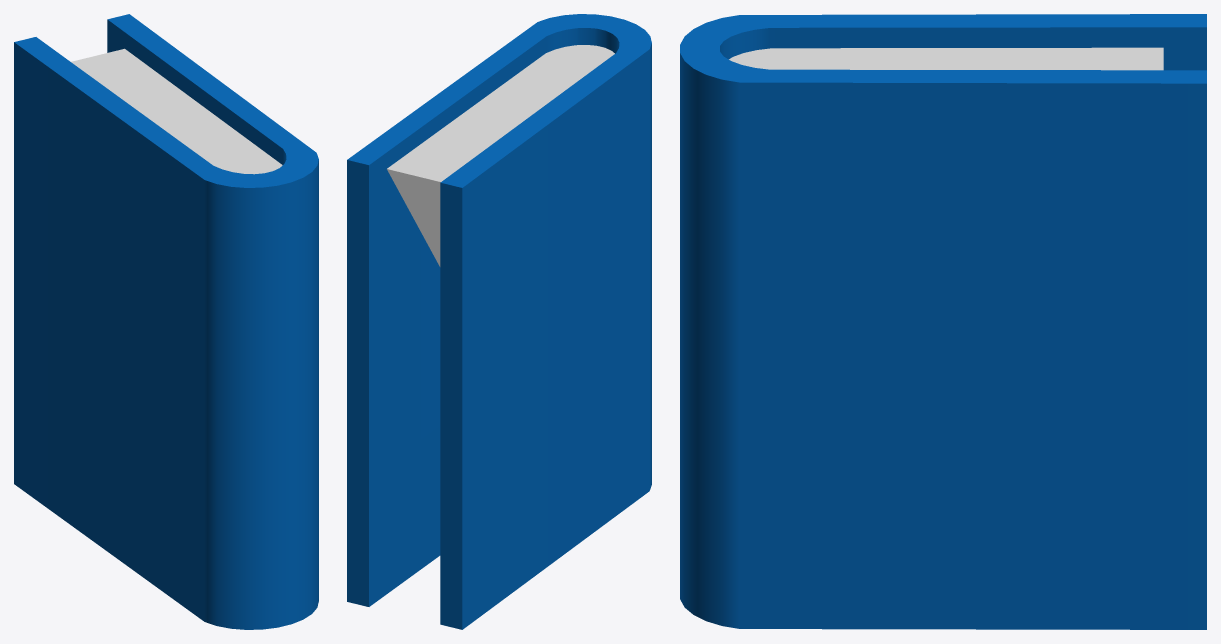
Rendered from book2.fbx.
3 renders of one model, left to right at view 1: azimuth 30°, elevation 25°; view 2: azimuth 150°, elevation 25°; view 3: azimuth 270°, elevation 25°, orthographic. The views are drawn at different scales.
Parts seen in each view (by area): view 1: polySurface2; view 2: polySurface2; view 3: polySurface2.
Boxes of the visible parts, x1=… form: polySurface2: x1=14, y1=14, x2=318, y2=629; polySurface2: x1=347, y1=14, x2=651, y2=629; polySurface2: x1=680, y1=14, x2=1206, y2=629.
Bounding box in the file's own units: 0.294 × 1.08 × 0.9405.
